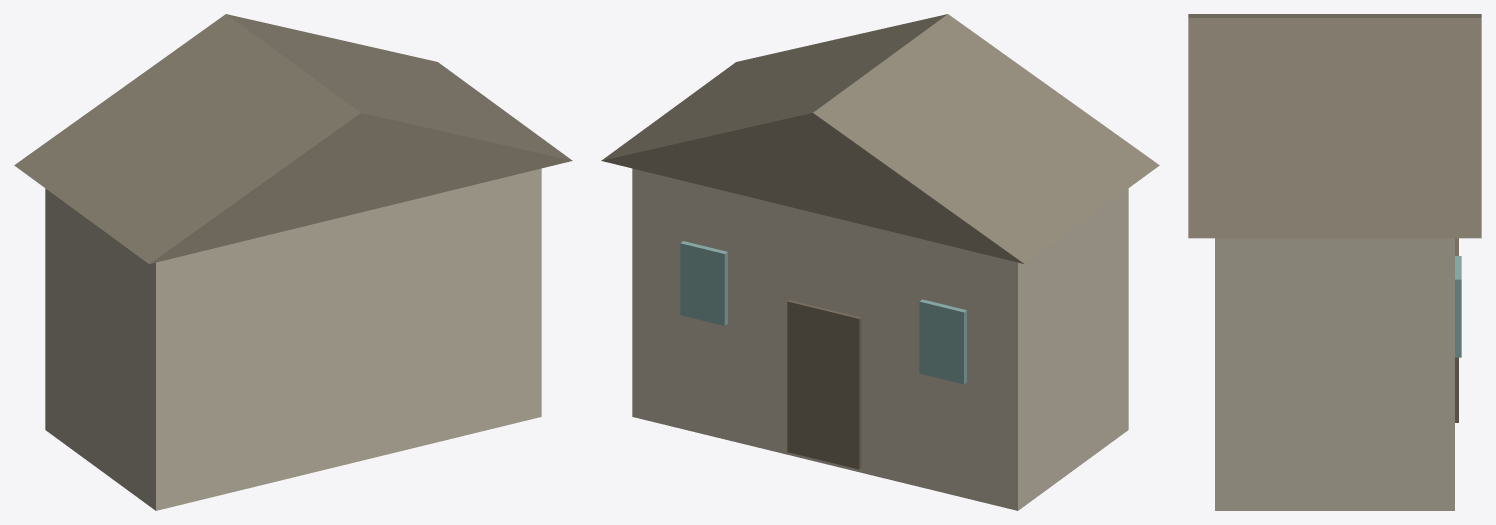
File: city_market.glb
3 views of the same model, side by side, from view 1: azimuth 30°, elevation 25°; view 2: azimuth 150°, elevation 25°; view 3: azimuth 270°, elevation 25° (orthographic). The views are drawn at different scales.
Parts seen in each view (by area): view 1: market; view 2: market; view 3: market.
Boxes of the visible parts, <box> form: market: <box>14,14,572,510</box>; market: <box>601,14,1159,510</box>; market: <box>1188,14,1481,510</box>.
Bounding box in the file's own units: 4 × 3.25 × 2.21.
